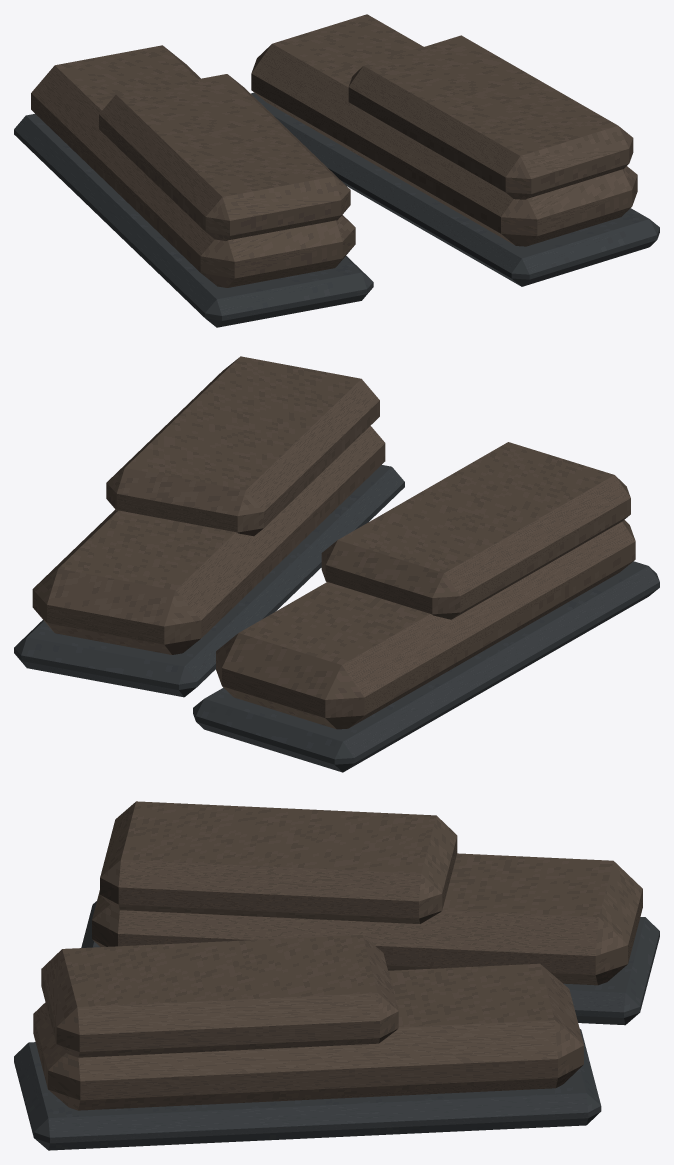
Rendered from dress_shoes.glb.
The picture shows the model from 3 angles, top to bottom: view 1: azimuth 30°, elevation 25°; view 2: azimuth 150°, elevation 25°; view 3: azimuth 270°, elevation 25°; orthographic projection. The views are drawn at different scales.
Parts seen in each view (by area): view 1: block_collar (×2), block_upper and toe box (×2), block_sole (×2); view 2: block_upper and toe box (×2), block_collar (×2), block_sole (×2); view 3: block_collar (×2), block_upper and toe box (×2), block_sole (×2).
Part boxes in pixels (x1=…): block_collar (×2): x1=99, y1=35, x2=633, y2=240; block_upper and toe box (×2): x1=31, y1=14, x2=637, y2=287; block_sole (×2): x1=14, y1=92, x2=659, y2=327; block_upper and toe box (×2): x1=32, y1=426, x2=635, y2=729; block_collar (×2): x1=106, y1=356, x2=630, y2=619; block_sole (×2): x1=14, y1=465, x2=659, y2=772; block_collar (×2): x1=41, y1=801, x2=457, y2=1057; block_upper and toe box (×2): x1=33, y1=853, x2=642, y2=1110; block_sole (×2): x1=14, y1=901, x2=659, y2=1150.
Size of the model in its own units: 0.2691 by 0.07 by 0.3078.
1 material, 1 textured.
